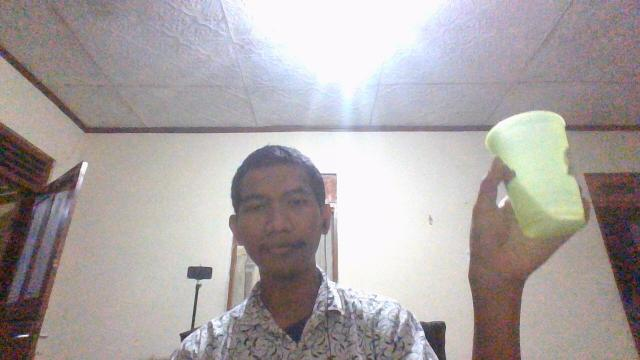botol-hijau: (483, 109, 587, 241)
